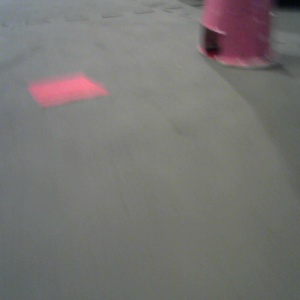right: (197, 1, 280, 71)
